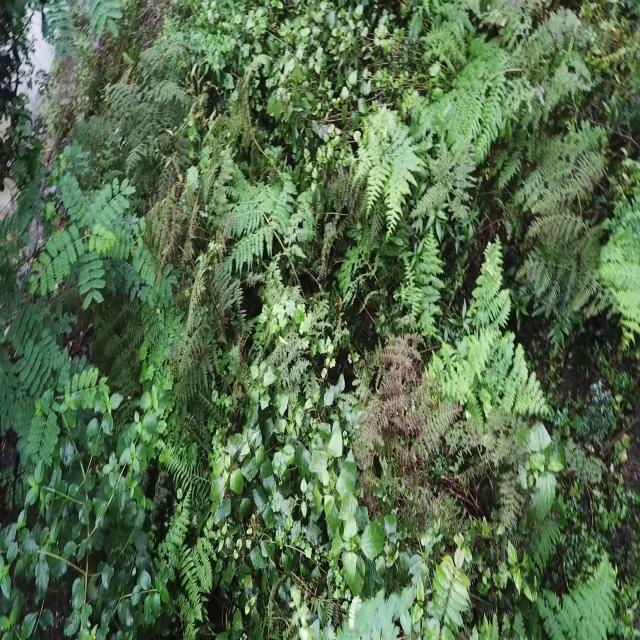Mysore-Thorn-Weed: (15, 156, 166, 304), (0, 296, 108, 473)
